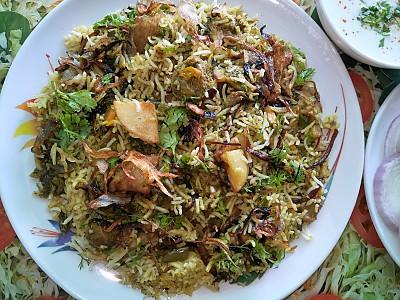Biryani: (23, 0, 340, 300)
